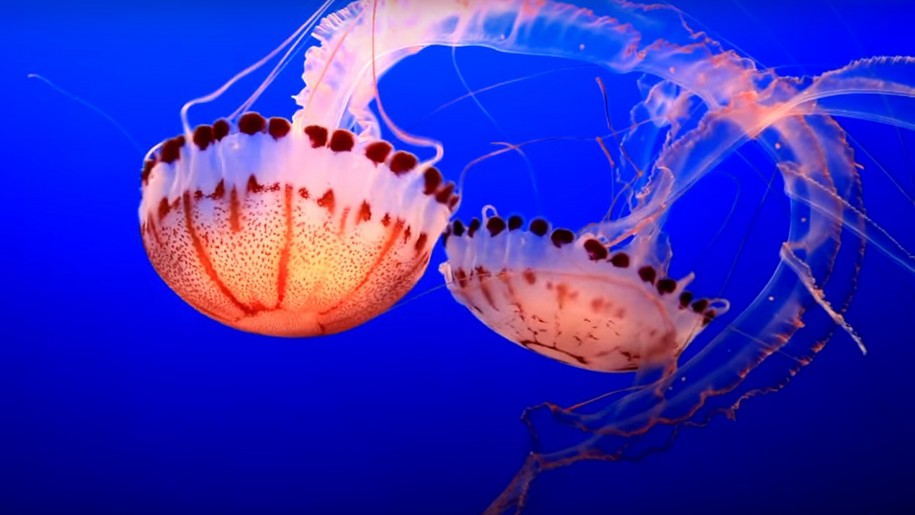jellyfish: (421, 66, 888, 353), (110, 6, 475, 340)
